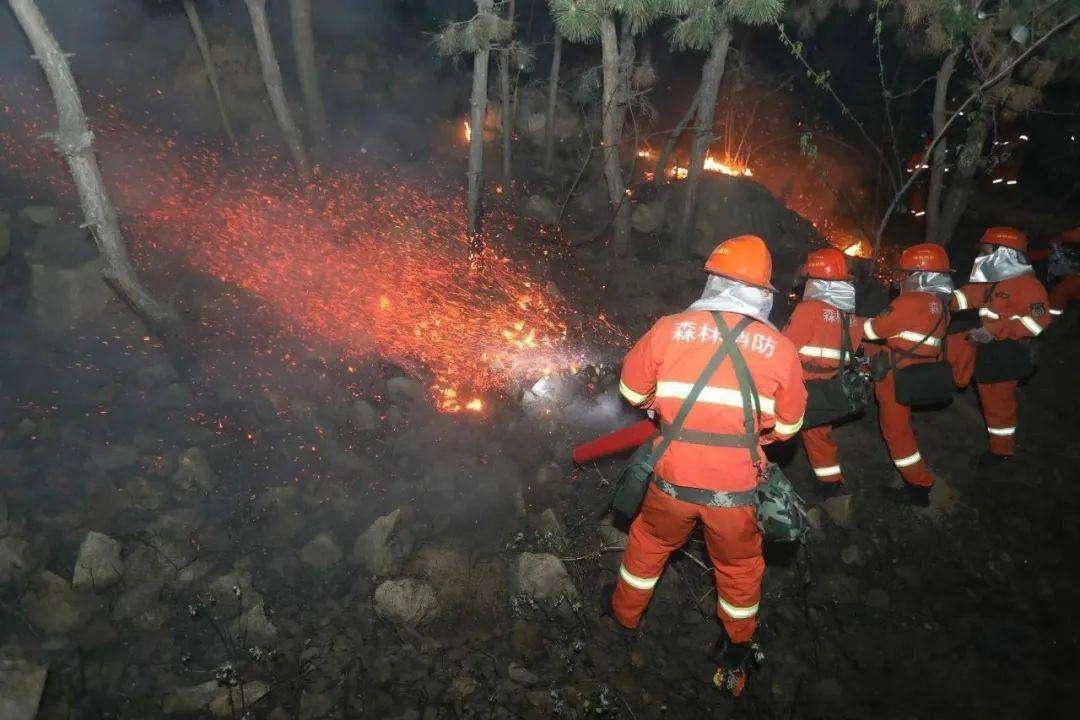fire: (108, 117, 600, 427), (608, 119, 769, 195), (801, 211, 882, 261)
